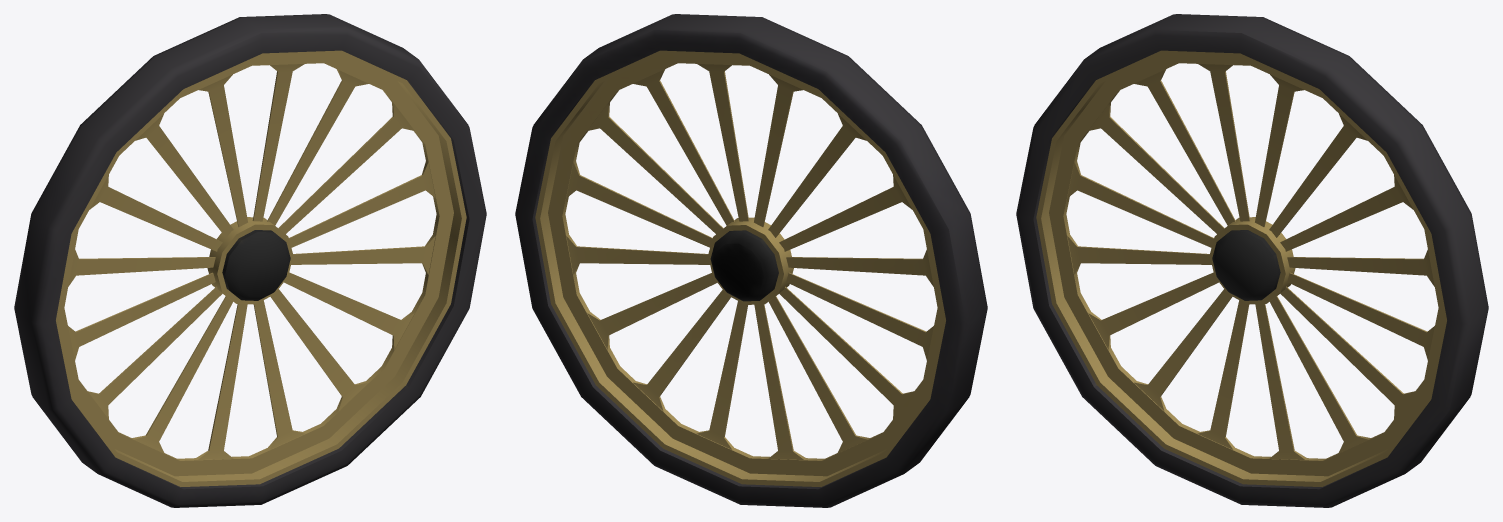
File: ruedaSteamCar2ChiefCoco.obj
3 renders of one model, left to right at view 1: azimuth 30°, elevation 25°; view 2: azimuth 150°, elevation 25°; view 3: azimuth 330°, elevation 25°, orthographic.
Visible parts, largest first — view 1: Cylinder.012_Material.002; view 2: Cylinder.012_Material.002, Cylinder.013_Material.002; view 3: Cylinder.012_Material.002.
Part boxes in pixels (x1,y1,x2,y2): Cylinder.012_Material.002: (14,14,486,507); Cylinder.012_Material.002: (515,14,987,507); Cylinder.013_Material.002: (587,50,802,303); Cylinder.012_Material.002: (1016,14,1488,507).
Size of the model in its own units: 1.35 by 1.35 by 0.1312.
